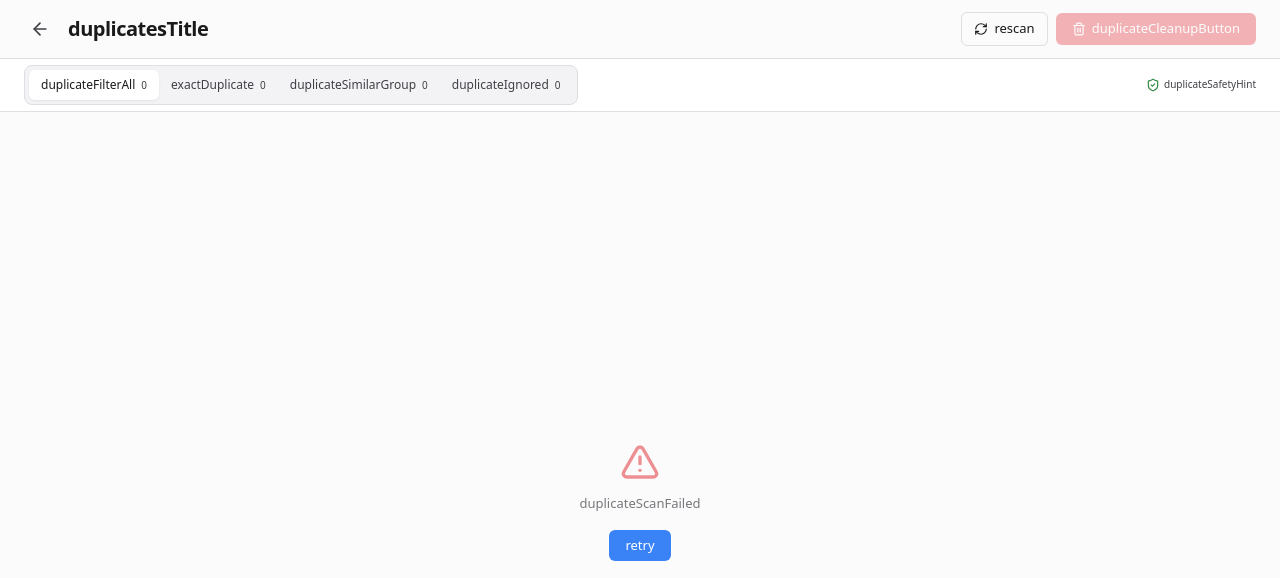
DuplicatesPage persisted review › shows an initial scan failure with a retry action
Expected: the message shows "duplicateScanFailed", [580,494,701,512]
Click the button "retry".
click(640, 546)  # box [609,530,670,561]
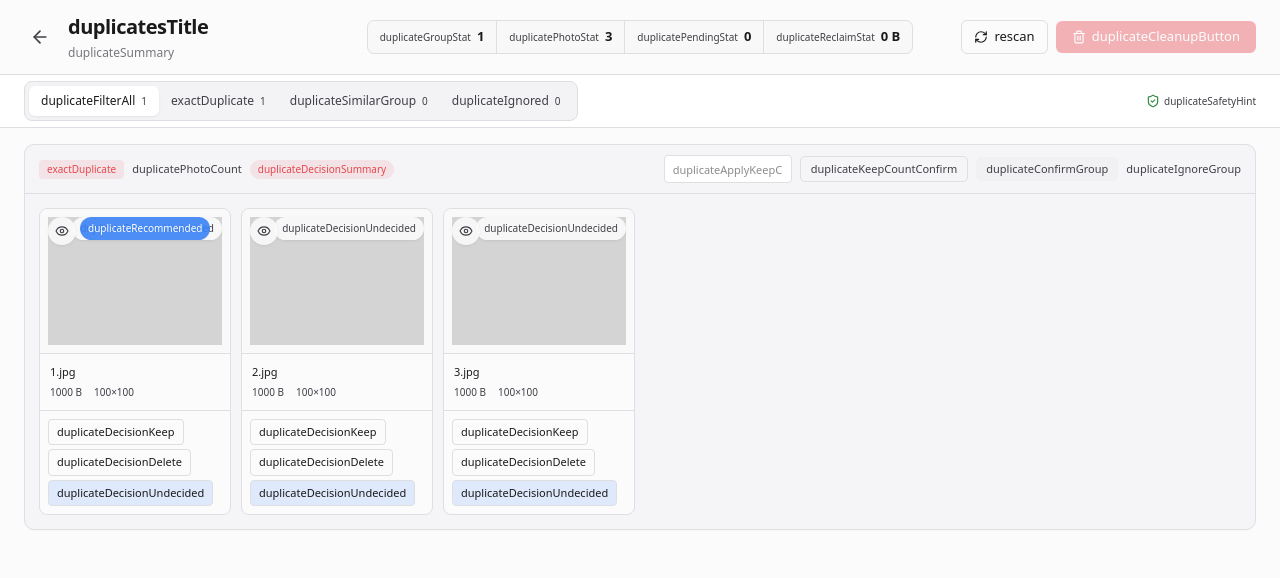
Expected: the text "1.jpg" is shown, [50,364,76,379]
